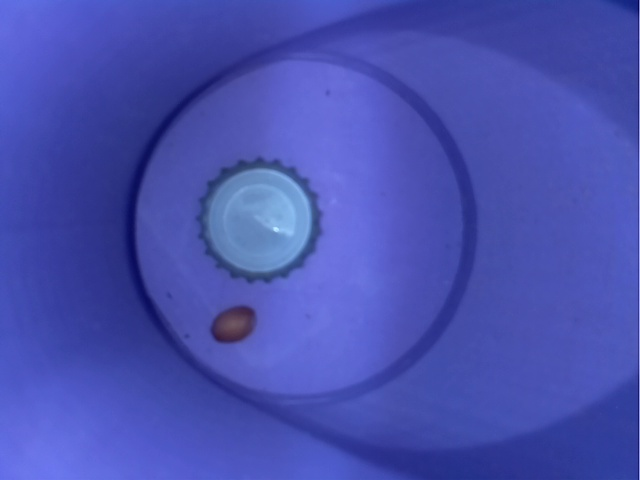capsule: (190, 153, 330, 283)
croquette: (200, 295, 263, 352)
